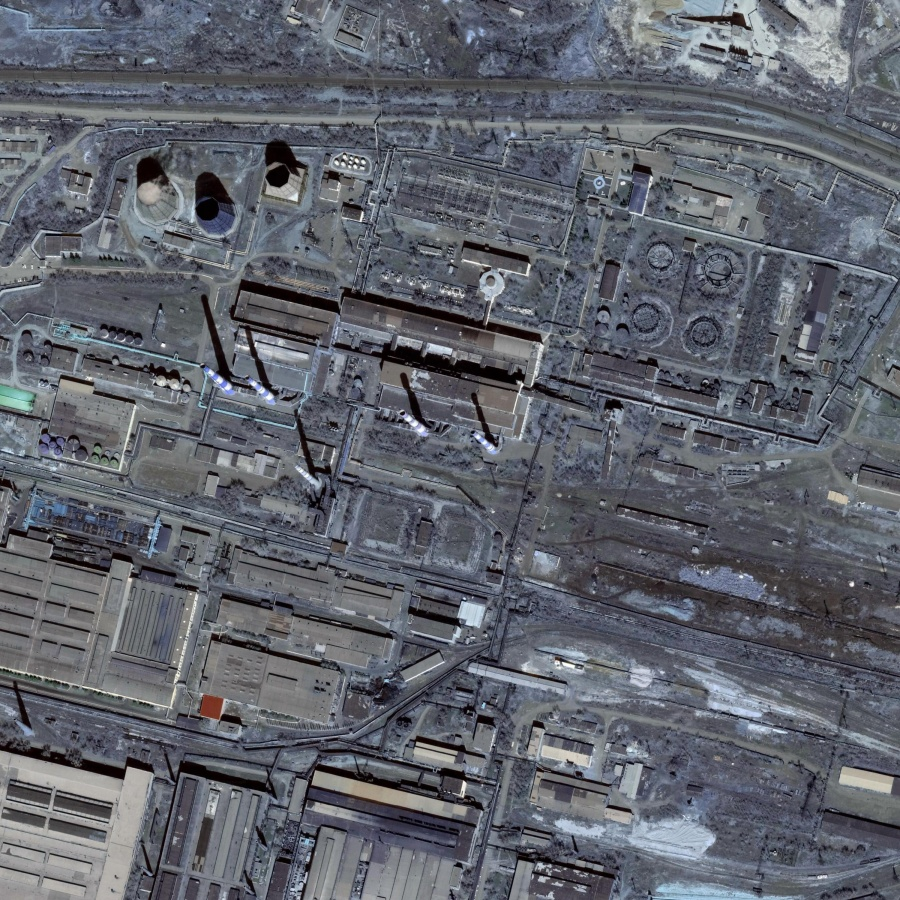PowerPlant: (123, 123, 537, 497)
